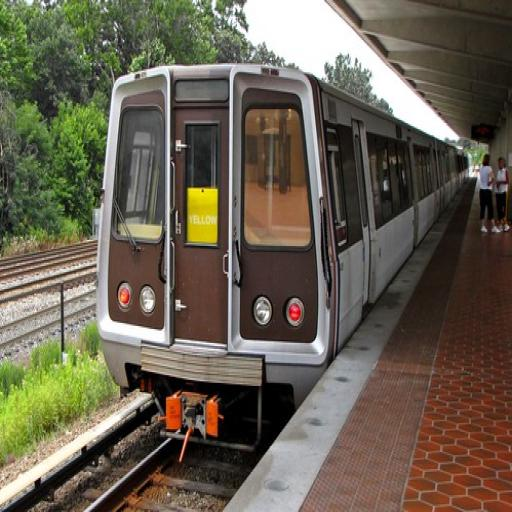platform_edge: (216, 234, 438, 509)
